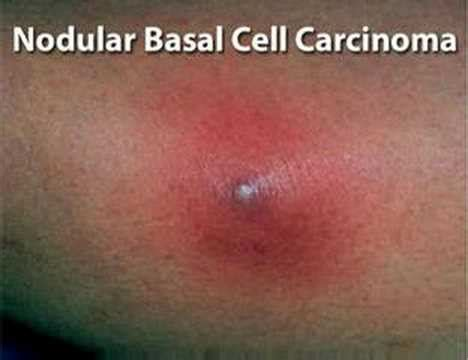Carcinoma: (213, 163, 278, 223)
